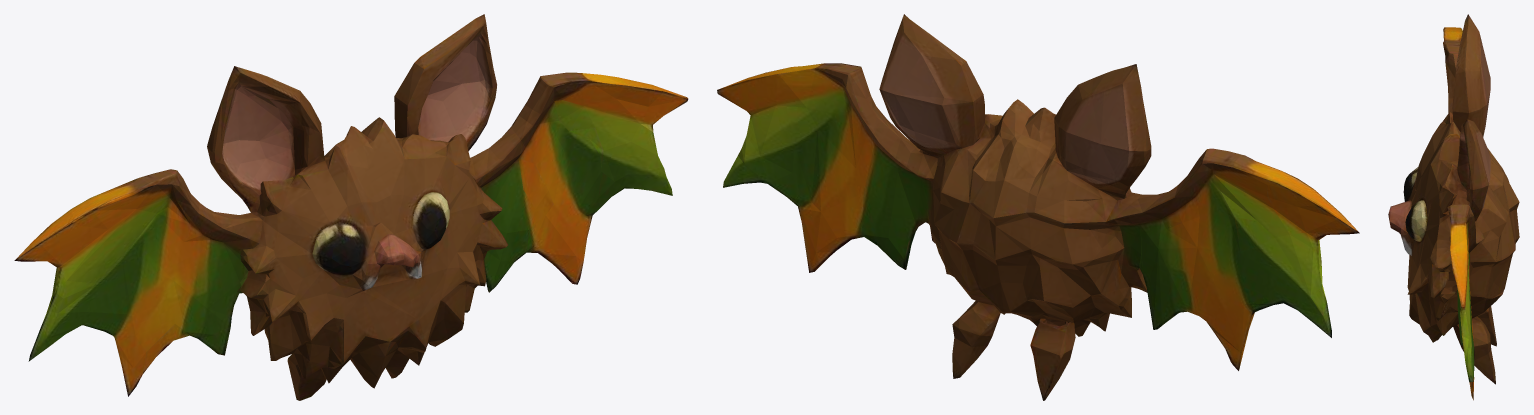
The model's file is m_chauve_souris_feuille.glb.
3 renders of one model, left to right at view 1: azimuth 30°, elevation 25°; view 2: azimuth 150°, elevation 25°; view 3: azimuth 270°, elevation 25°, orthographic. The views are drawn at different scales.
Parts seen in each view (by area): view 1: geometry_0; view 2: geometry_0; view 3: geometry_0.
Part boxes in pixels (box(x1,y1,x2,y2)): geometry_0: box(14, 14, 688, 400); geometry_0: box(717, 14, 1359, 400); geometry_0: box(1388, 14, 1519, 400).
Bounding box in the file's own units: 0.9959 × 0.5148 × 0.2042.
1 material, 1 textured.
